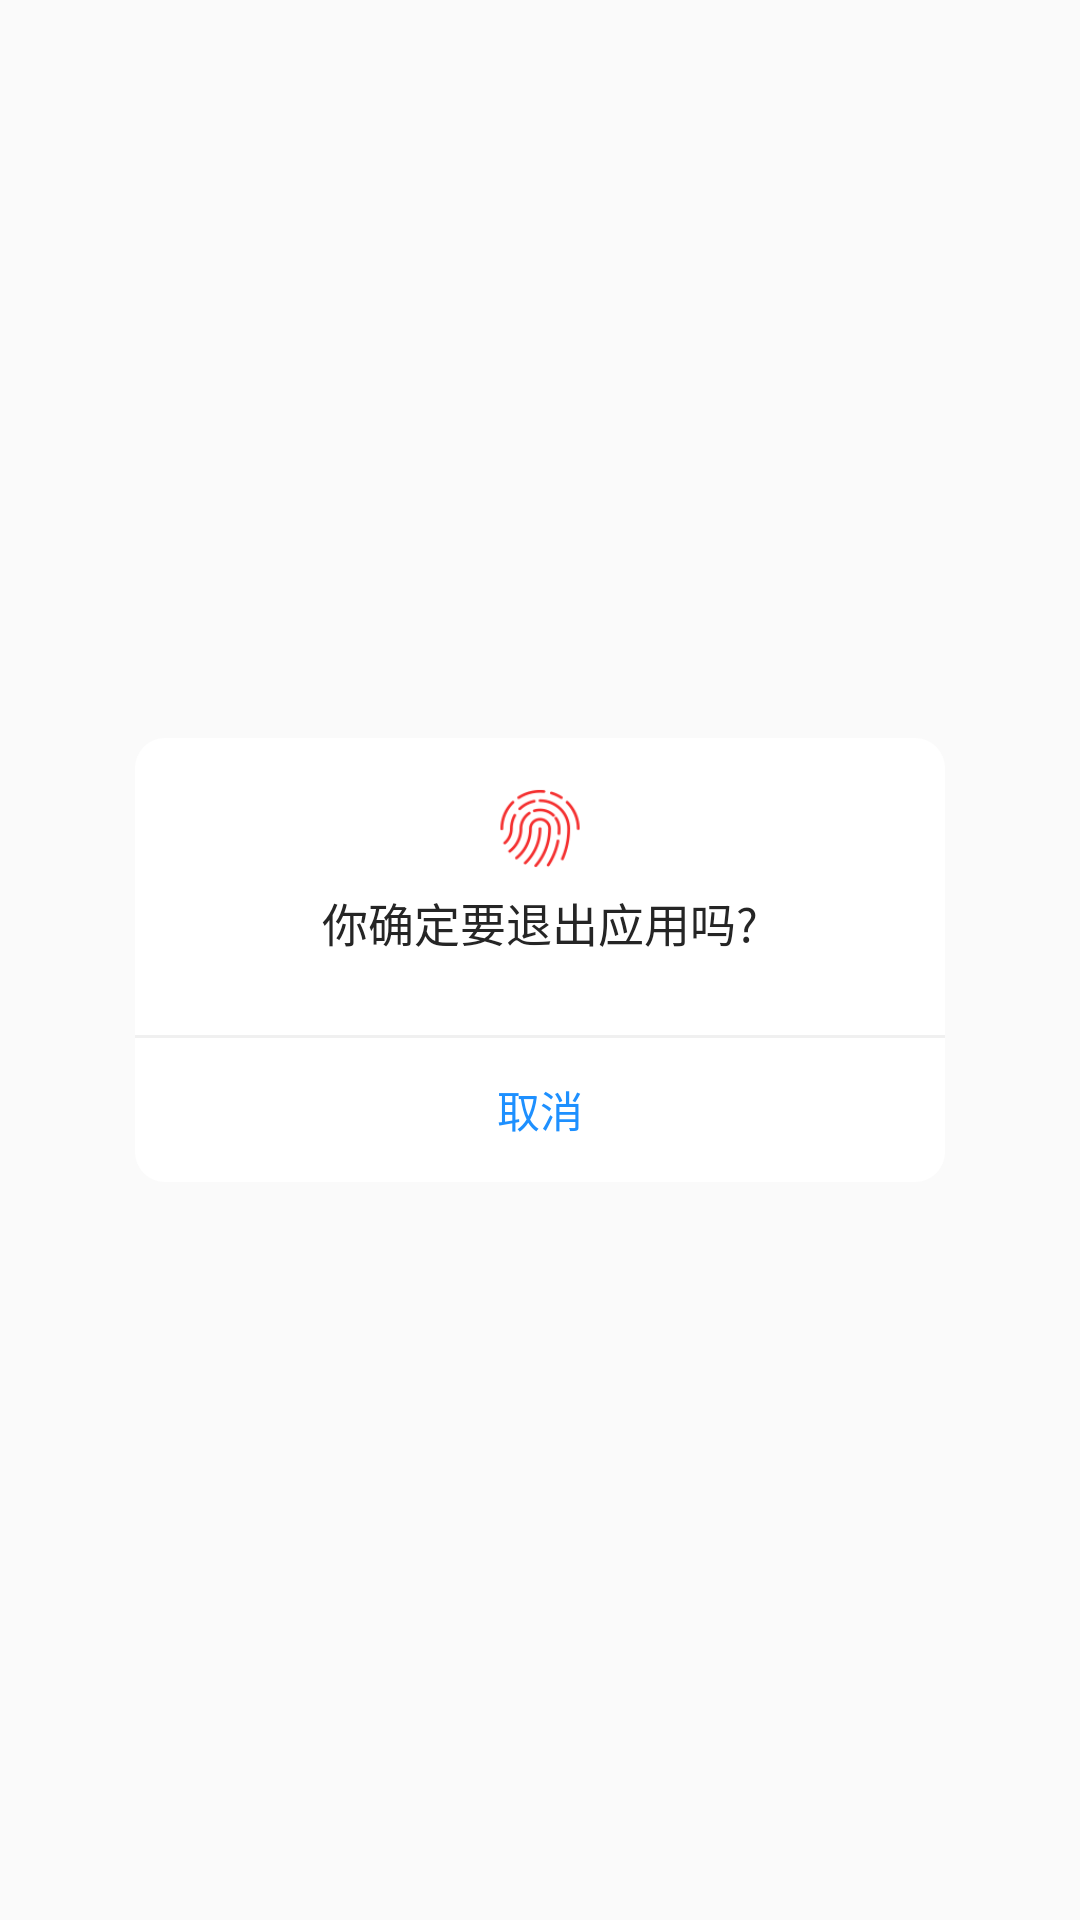

Screen size 1080×1920. Icon name, then its center in pixels as point (x, y):
zhiwen: point (540, 828)
